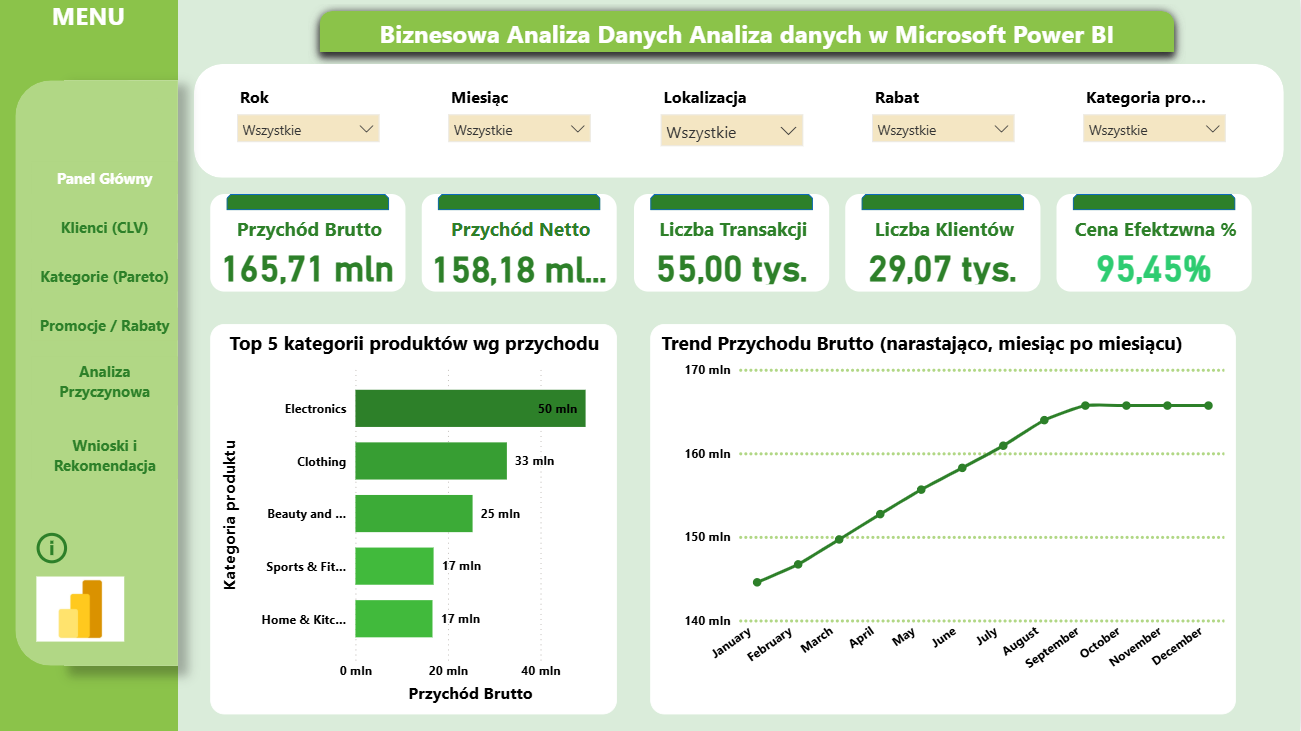

Layout of this report page (visuals, bound fields, positions):
{"tool":"powerbi","page":{"name":"Panel Główny","canvas":[1280,720],"ordinal":1},"visuals":[{"type":"shape","title":"MENU","box":[0,0,176,720],"z":0,"group":"g2"},{"type":"card","title":"Przychód Brutto","fields":{"Values":["Sprzedaz.Przychód Brutto"]},"box":[208,192,192,96],"z":0},{"type":"actionButton","title":"Wnioski i Rekomendacja","box":[32,352,144,48],"z":0,"group":"g1"},{"type":"shape","title":"boczny pasek2","box":[64,80,112,576],"z":1000,"group":"g2"},{"type":"card","title":"Przychód Netto","fields":{"Values":["Sprzedaz.Przychód Netto"]},"box":[416,192,192,96],"z":1000},{"type":"actionButton","title":"insight","box":[32,424,144,48],"z":1000,"group":"g1"},{"type":"shape","title":"boczny pasek1","box":[16,80,144,576],"z":2000,"group":"g2"},{"type":"actionButton","title":"promocje i rabaty","box":[32,304,144,32],"z":2000,"group":"g1"},{"type":"card","title":"Liczba Transakcji","fields":{"Values":["Sprzedaz.Liczba Transakcji"]},"box":[624,192,192,96],"z":3000},{"type":"actionButton","title":"Pereto","box":[32,256,144,32],"z":3000,"group":"g1"},{"type":"image","title":"logo","box":[32,552,96,96],"z":3000,"group":"g2"},{"type":"group","id":"g1","title":"strony","box":[32,160,144,400],"z":4000,"group":"g2"},{"type":"card","title":"Liczba Klientów","fields":{"Values":["Sprzedaz.Liczba Klientów"]},"box":[832,192,192,96],"z":4000},{"type":"actionButton","title":"klienci","box":[32,208,144,32],"z":4000,"group":"g1"},{"type":"actionButton","title":"Panel","box":[32,160,144,32],"z":5000,"group":"g1"},{"type":"actionButton","title":"info","box":[32,520,40,40],"z":6000,"group":"g1"},{"type":"card","title":"Cena Efektzwna %","fields":{"Values":["Sprzedaz.Cena efektywna %"]},"box":[1040,192,192,96],"z":7000},{"type":"lineChart","title":"Trend Przychodu Brutto (narastająco, miesiąc po miesiącu)","fields":{"Category":["Kalendarz.MonthName"],"Y":["Sprzedaz.Przychód Brutto Narastająco"]},"box":[640,320,576,384],"z":8000},{"type":"barChart","title":"Top 5 kategorii produktów wg przychodu","fields":{"Y":["Sprzedaz.Przychód Brutto"],"Category":["Produkt.Produkty"]},"box":[208,320,400,384],"z":9000},{"type":"shape","title":"naglowek","box":[304,0,864,64],"z":10000},{"type":"shape","title":"filtry","box":[192,64,1072,112],"z":11000},{"type":"slicer","title":"Rabat","fields":{"Values":["Rabat.Discount Availed"]},"box":[848,80,160,80],"z":12000},{"type":"slicer","title":"kategoria prouktu","fields":{"Values":["Produkt.Product Category"]},"box":[1056,80,160,80],"z":13000},{"type":"slicer","title":"lokalizacja","fields":{"Values":["Lokalizacja.Location"]},"box":[640,80,160,80],"z":14000},{"type":"slicer","title":"miesiac","fields":{"Values":["Kalendarz.MonthName"]},"box":[432,80,160,80],"z":15000},{"type":"slicer","title":"rok","fields":{"Values":["Kalendarz.Year"]},"box":[224,80,160,80],"z":16000},{"type":"shape","title":"nakladka na kpi","box":[224,192,160,16],"z":17000},{"type":"shape","title":"nakladka na kpi","box":[432,192,160,16],"z":18000},{"type":"shape","title":"nakladka na kpi","box":[640,192,160,16],"z":19000},{"type":"shape","title":"nakladka na kpi","box":[848,192,160,16],"z":20000},{"type":"shape","title":"nakladka na kpi","box":[1056,192,160,16],"z":21000},{"type":"group","id":"g2","title":"Menu","box":[0,0,176,720],"z":22000}]}

Visuals, with their boxes in screenshot pixels (x1, y1, x2, y2), scaled from the page's 1280x720 canvas onto the 1301x731 screenshot:
"MENU" shape: 0:0:179:730
"Przychód Brutto" card: 211:195:407:292
"Wnioski i Rekomendacja" actionButton: 33:357:179:406
"boczny pasek2" shape: 65:81:179:666
"Przychód Netto" card: 423:195:618:292
"insight" actionButton: 33:430:179:479
"boczny pasek1" shape: 16:81:163:666
"promocje i rabaty" actionButton: 33:309:179:341
"Liczba Transakcji" card: 634:195:829:292
"Pereto" actionButton: 33:260:179:292
"logo" image: 33:560:130:658
"strony" group: 33:162:179:569
"Liczba Klientów" card: 846:195:1041:292
"klienci" actionButton: 33:211:179:244
"Panel" actionButton: 33:162:179:195
"info" actionButton: 33:528:73:569
"Cena Efektzwna %" card: 1057:195:1252:292
"Trend Przychodu Brutto (narastająco, miesiąc po miesiącu)" lineChart: 650:325:1236:715
"Top 5 kategorii produktów wg przychodu" barChart: 211:325:618:715
"naglowek" shape: 309:0:1187:65
"filtry" shape: 195:65:1285:179
"Rabat" slicer: 862:81:1025:162
"kategoria prouktu" slicer: 1073:81:1236:162
"lokalizacja" slicer: 650:81:813:162
"miesiac" slicer: 439:81:602:162
"rok" slicer: 228:81:390:162
"nakladka na kpi" shape: 228:195:390:211
"nakladka na kpi" shape: 439:195:602:211
"nakladka na kpi" shape: 650:195:813:211
"nakladka na kpi" shape: 862:195:1025:211
"nakladka na kpi" shape: 1073:195:1236:211
"Menu" group: 0:0:179:730
